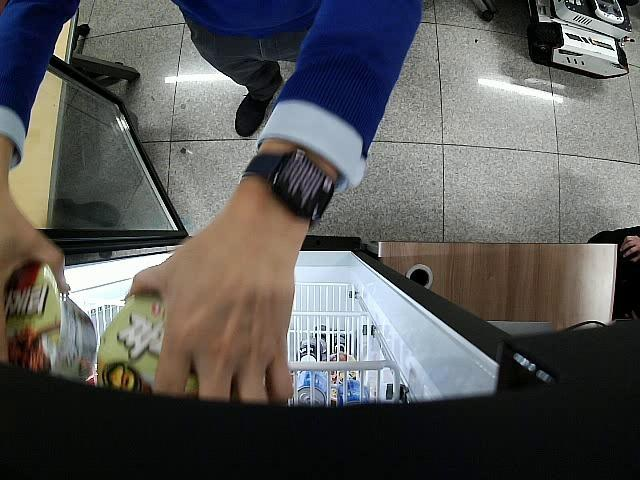03_chapagetti_L: (0, 258, 97, 378), (98, 291, 195, 396)
